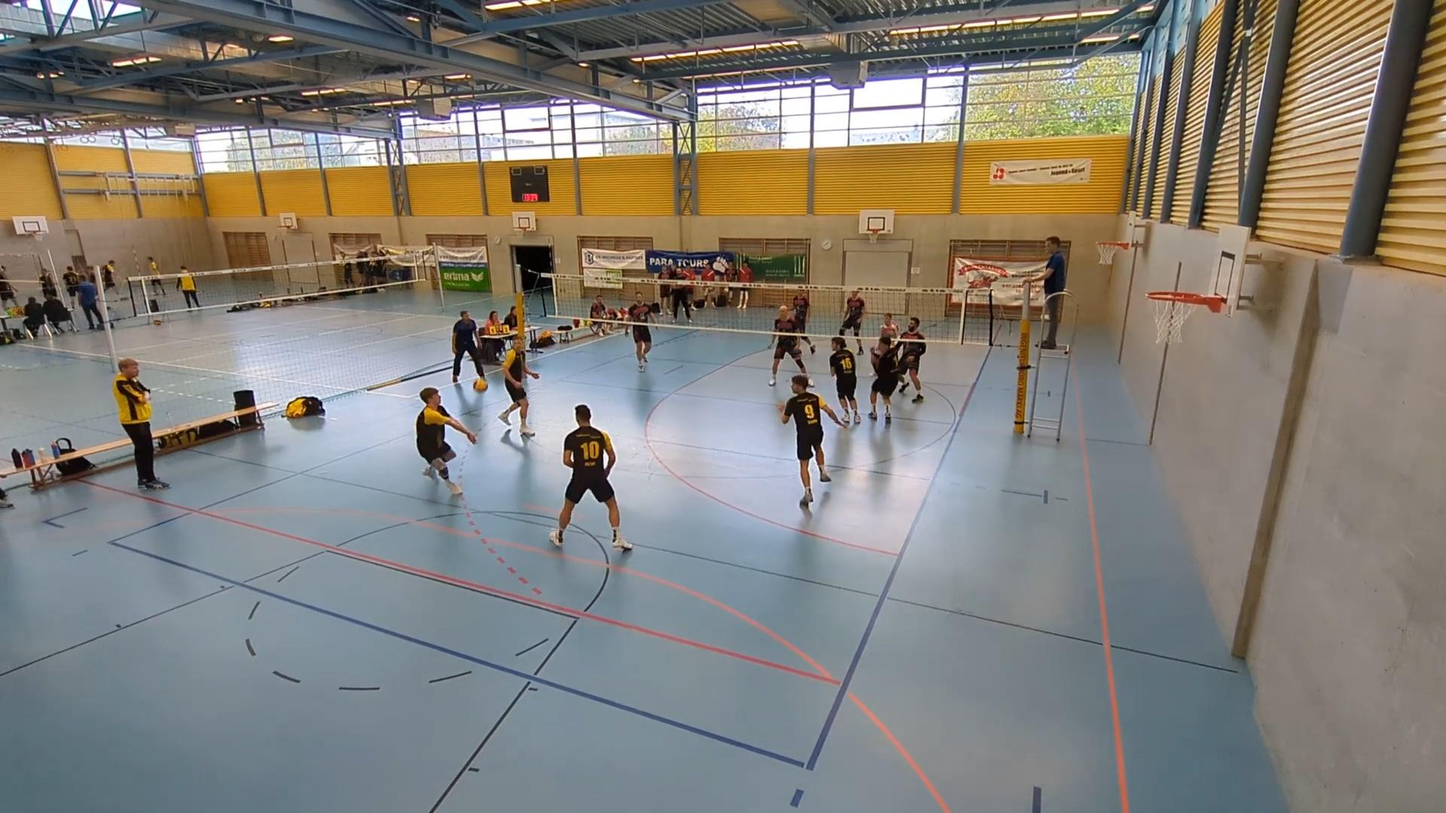Dig: (415, 386, 478, 498)
Player: (549, 405, 632, 551), (779, 374, 844, 506), (416, 387, 476, 495), (498, 336, 539, 437), (769, 306, 811, 385), (829, 336, 861, 422), (868, 337, 898, 422), (898, 317, 926, 403), (627, 291, 654, 371), (838, 289, 865, 352), (792, 286, 816, 352)
ball: (471, 376, 489, 393)
